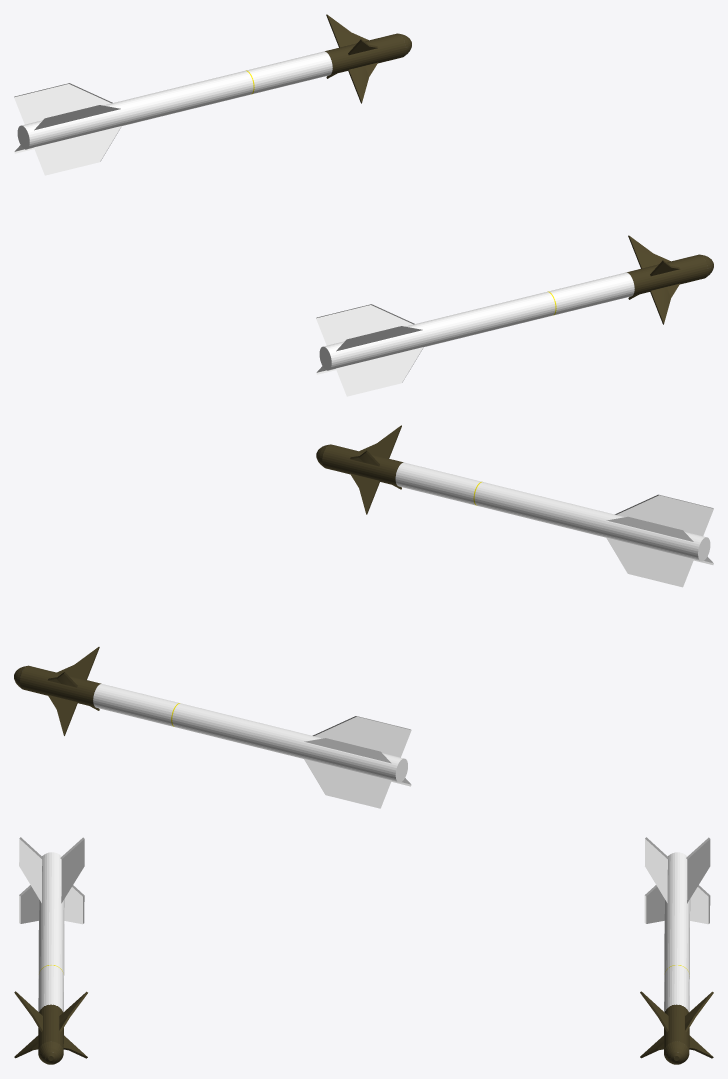
Rendered from f15eaim923.glb.
3 renders of one model, top to bottom at view 1: azimuth 30°, elevation 25°; view 2: azimuth 150°, elevation 25°; view 3: azimuth 270°, elevation 25°, orthographic. The views are drawn at different scales.
Visible parts, largest first — view 1: 円柱.007, 円柱.006; view 2: 円柱.007, 円柱.006; view 3: 円柱.007, 円柱.006.
Boxes of the visible parts, x1,y1,x2,y2 form: 円柱.007: (316, 235, 713, 396); 円柱.006: (14, 14, 411, 175); 円柱.007: (316, 425, 713, 587); 円柱.006: (14, 647, 411, 808); 円柱.007: (14, 837, 87, 1064); 円柱.006: (640, 837, 713, 1064).
Bounding box in the file's own units: 3.38 × 0.543 × 5.12.
2 materials, 2 textured.
